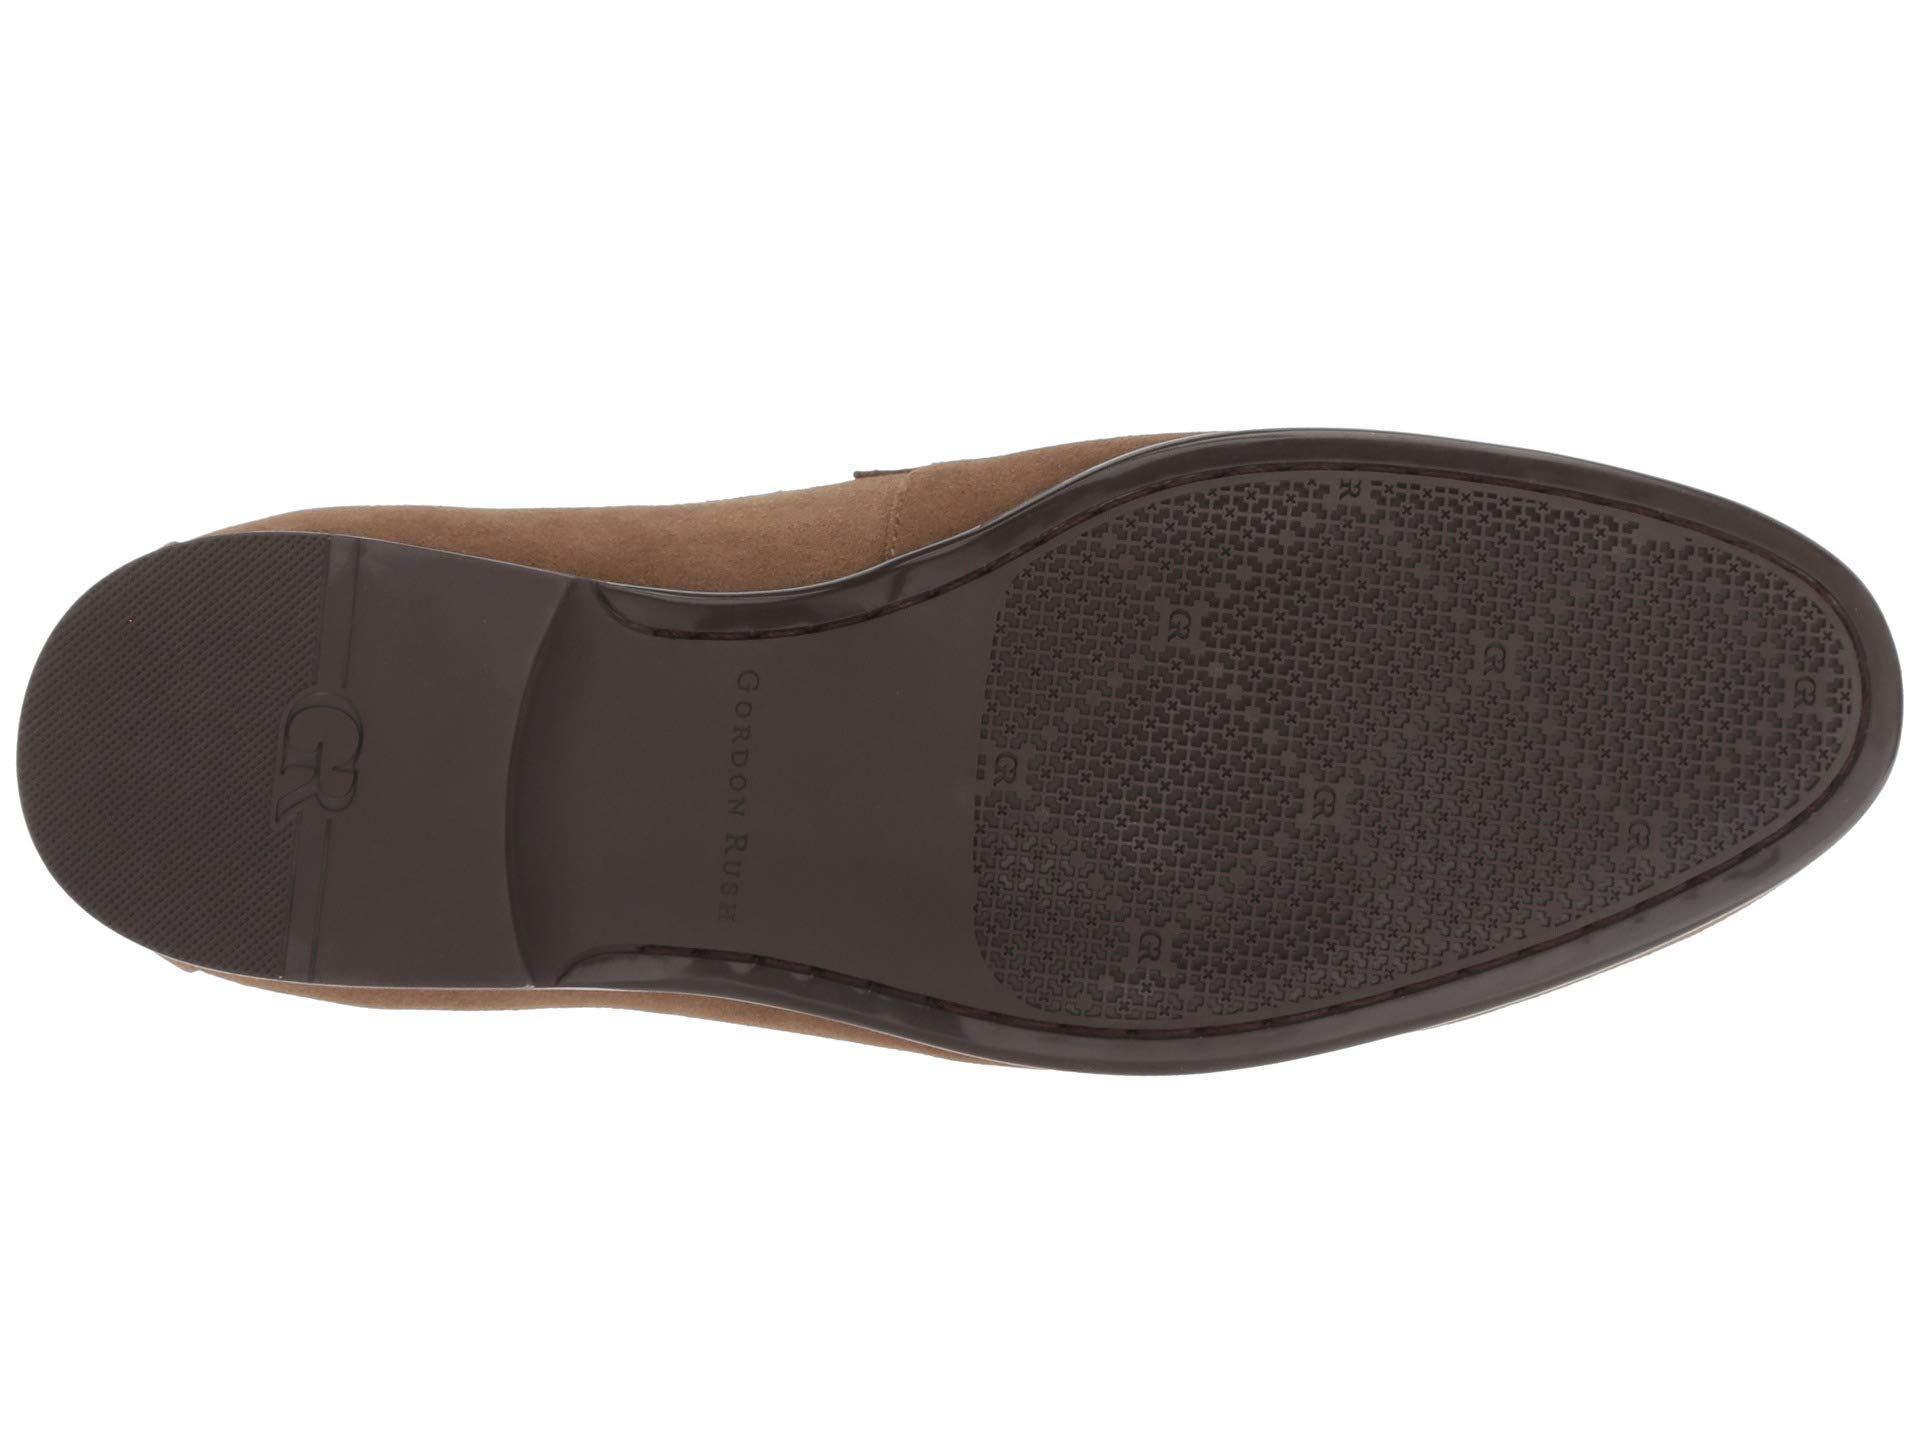circle: (1150, 484, 1580, 942), (673, 638, 825, 926)
line: (236, 582, 435, 957)
quad: (1150, 484, 1580, 942)
text: (236, 582, 435, 957), (673, 638, 825, 926)
